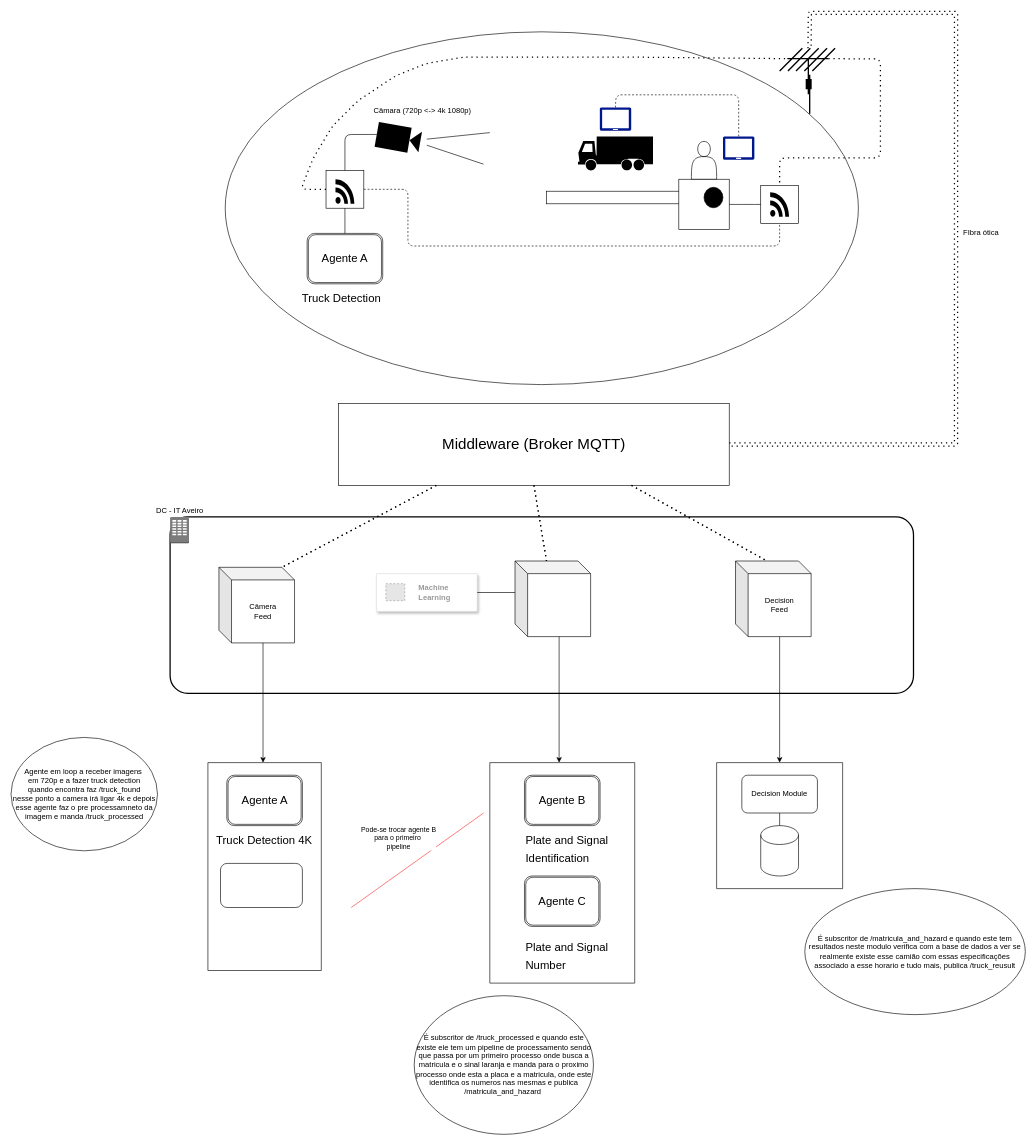
Some shapes in this 1036 by 1145 pixel diagram are drawn without their labels. Grey dashed boxes stand in for pictures. The shapes that lost their labels are listed below. From the top down, each one's centre as x and y in pixels, then its label:
At point (807, 80): "Antena 5G".
At point (615, 197): "Cancela do porto".
At point (552, 598): "Agentes".
At point (779, 850): "CRM".
At point (261, 885): "Image Manipulation".
